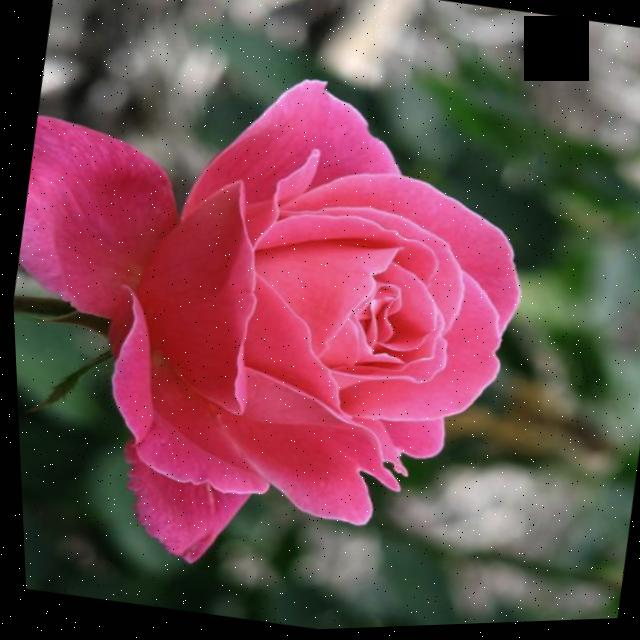rose: (1, 17, 573, 631)
